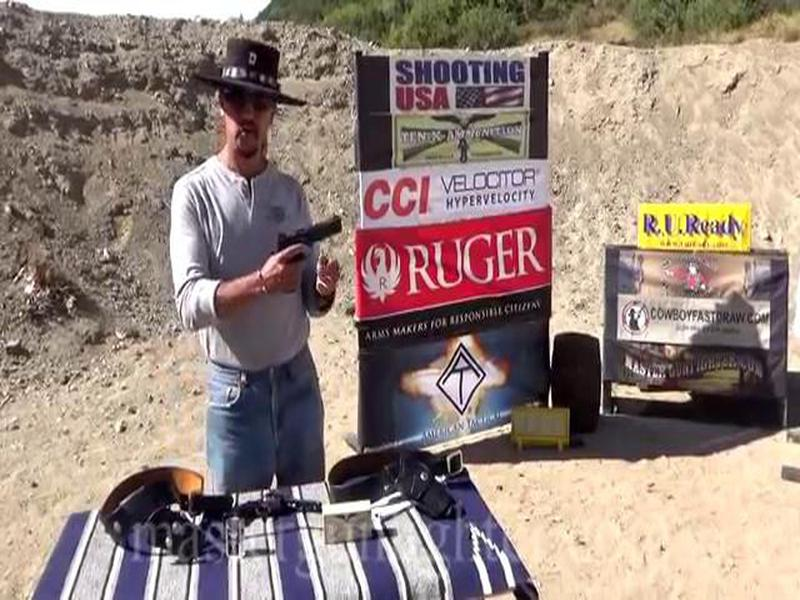Pistola: (252, 212, 362, 301)
